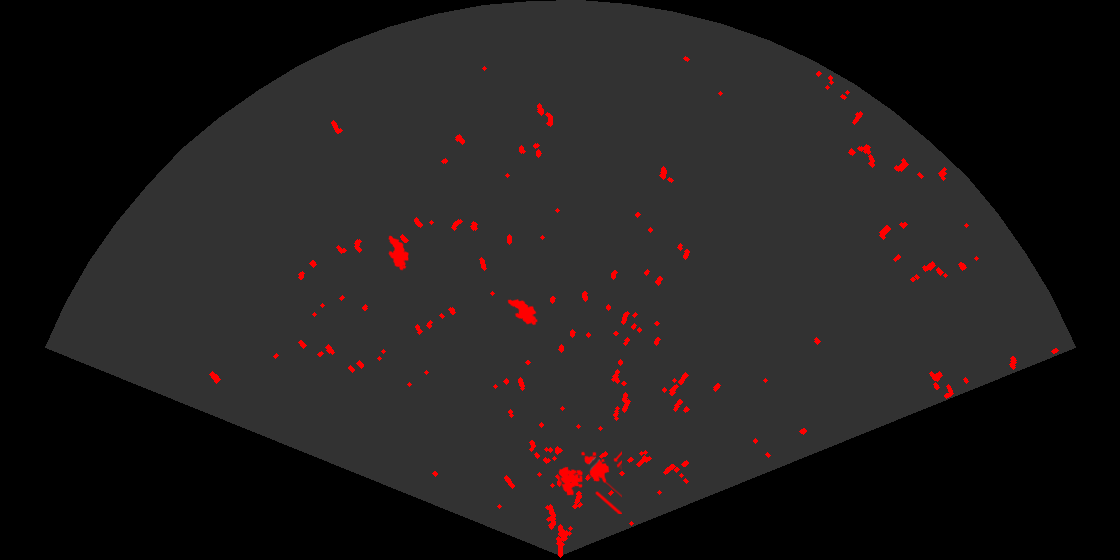AUV: (506, 298, 539, 327), (387, 234, 411, 272)
cage: (557, 449, 622, 514)
